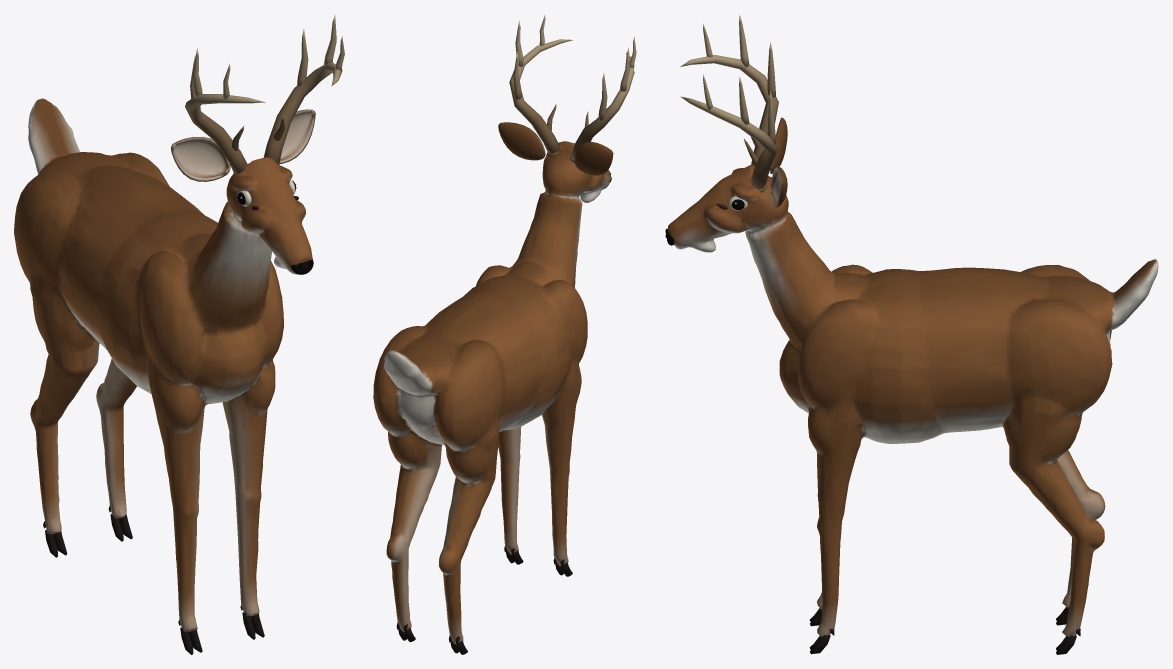
Rendered from WhiteTailedDeer.fbx.
3 renders of one model, left to right at view 1: azimuth 30°, elevation 25°; view 2: azimuth 150°, elevation 25°; view 3: azimuth 270°, elevation 25°, orthographic. The views are drawn at different scales.
Parts seen in each view (by area): view 1: WhiteTailedDeer; view 2: WhiteTailedDeer; view 3: WhiteTailedDeer.
Part boxes in pixels (bbox=[...]): WhiteTailedDeer: bbox=[14, 14, 344, 654]; WhiteTailedDeer: bbox=[373, 15, 636, 654]; WhiteTailedDeer: bbox=[665, 15, 1158, 654].
Bounding box in the file's own units: 0.3975 × 1.69 × 1.28.
